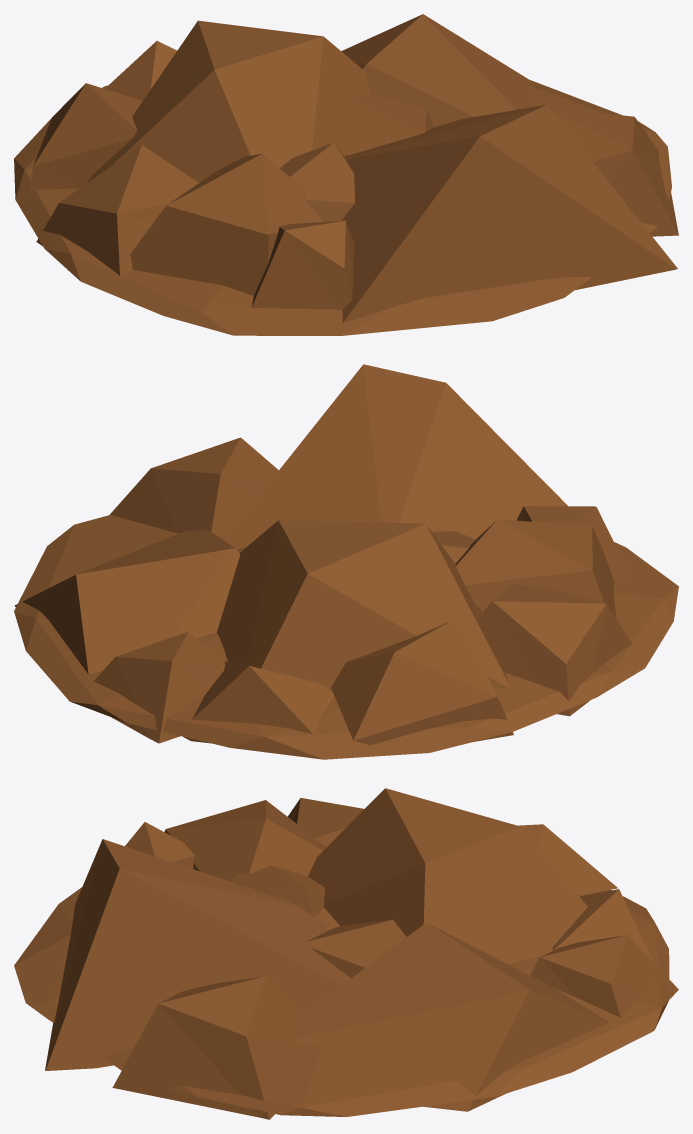
The model's file is CopperPileBag.fbx.
The picture shows the model from 3 angles, top to bottom: view 1: azimuth 30°, elevation 25°; view 2: azimuth 150°, elevation 25°; view 3: azimuth 270°, elevation 25°; orthographic projection.
Visible parts, largest first — view 1: CopperPileBag; view 2: CopperPileBag; view 3: CopperPileBag.
Part boxes in pixels (bbox=[...]): CopperPileBag: bbox=[14, 14, 678, 335]; CopperPileBag: bbox=[14, 364, 678, 759]; CopperPileBag: bbox=[14, 788, 678, 1119].
Size of the model in its own units: 33.94 by 8.93 by 33.98.
